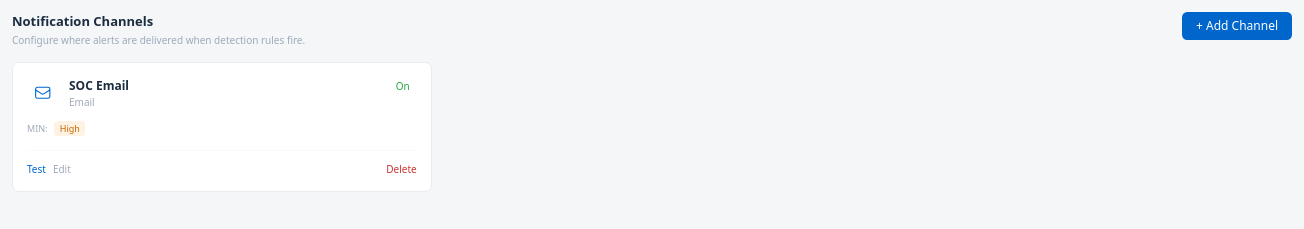
Scenario: NotificationsTab › test mutation › shows "Last test: Passed" after a successful test
Click the button "Test": [36, 169] box [27,162,46,177]
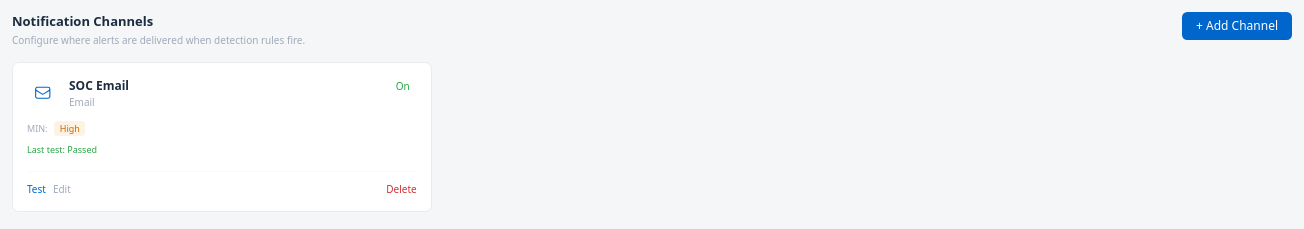
expect the text "Last test: Passed" is shown: met, box [27,143,97,156]
